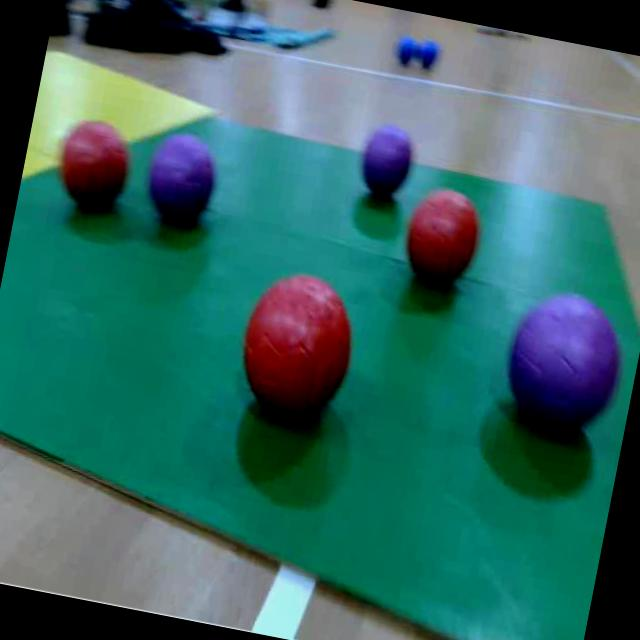blue_ball: (414, 34, 444, 74), (394, 37, 419, 69)
purple_ball: (498, 282, 634, 442), (137, 123, 226, 233), (356, 120, 416, 202)
red_ball: (226, 268, 366, 432), (396, 181, 490, 295), (51, 116, 139, 217)
